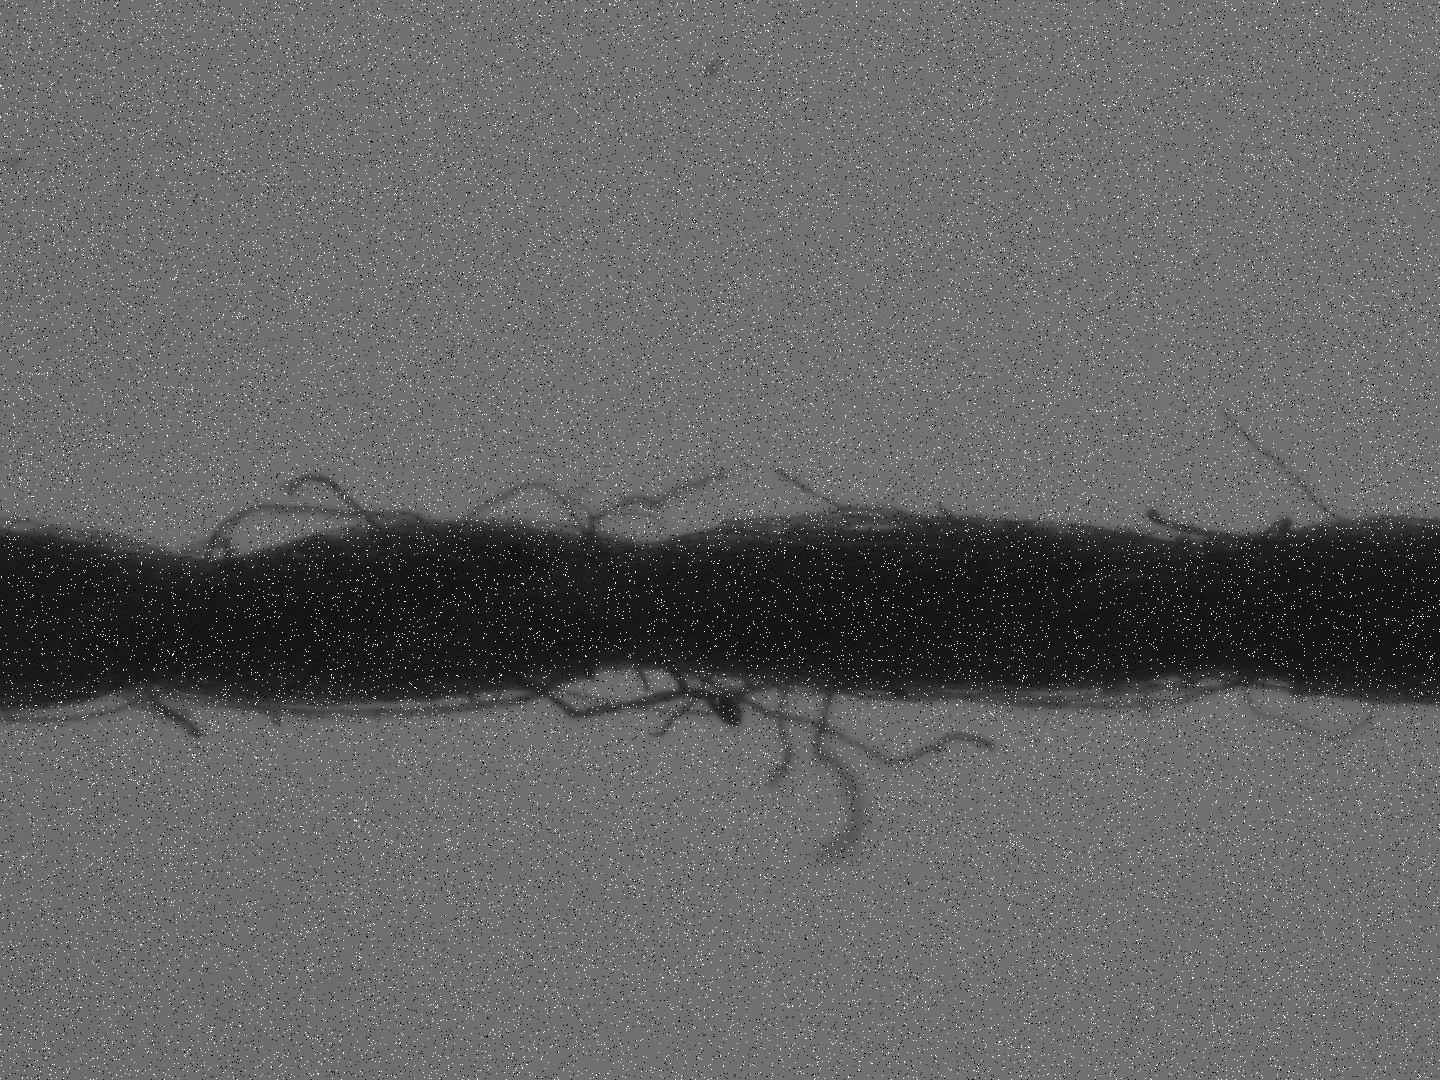loop_fiber: (177, 492, 444, 588), (483, 646, 759, 735), (447, 473, 601, 568), (1237, 665, 1388, 744), (933, 676, 1243, 712), (728, 505, 937, 533), (746, 676, 831, 701)
protruding_fiber: (1206, 400, 1364, 547), (132, 682, 203, 740)
